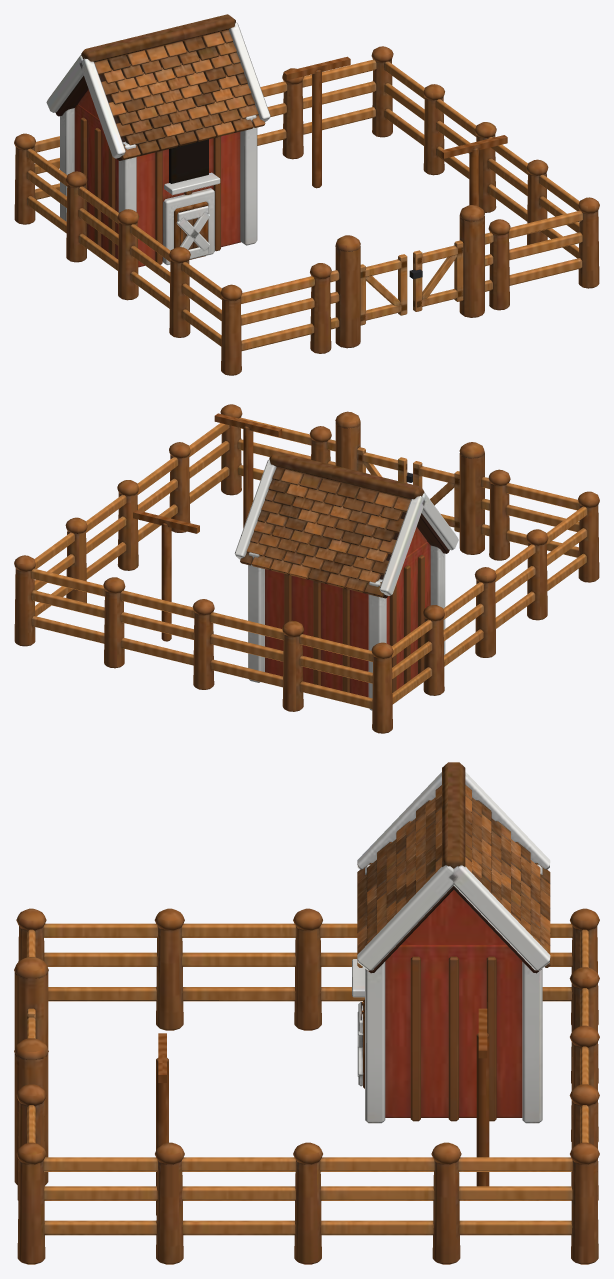
File: owl_barn.glb
The picture shows the model from 3 angles, top to bottom: view 1: azimuth 30°, elevation 25°; view 2: azimuth 150°, elevation 25°; view 3: azimuth 270°, elevation 25°; orthographic projection. The views are drawn at different scales.
Parts seen in each view (by area): view 1: owl_barn, gate1, gate0; view 2: owl_barn, gate0, gate1; view 3: owl_barn.
Part boxes in pixels (x1,y1,x2,y2): owl_barn: (14, 14, 599, 375); gate1: (409, 240, 463, 311); gate0: (360, 254, 407, 325); owl_barn: (14, 404, 599, 733); gate0: (413, 461, 459, 532); gate1: (357, 447, 412, 482); owl_barn: (14, 762, 599, 1264).
Size of the model in its own units: 2 by 1.04 by 2.01.
1 material, 1 textured.
